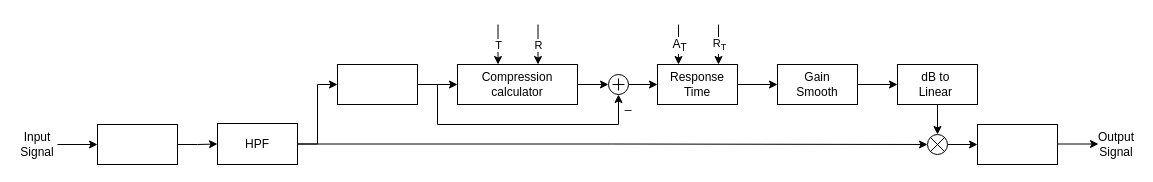
Image size: 1153x182. Some labels were removed from this diagram. Each missing label, with the centre of its shape:
"Gain (make up)" belongs at point 1017,144.
"Gain (saturation)" belongs at point 137,144.
"Linear to dB" belongs at point 377,84.
